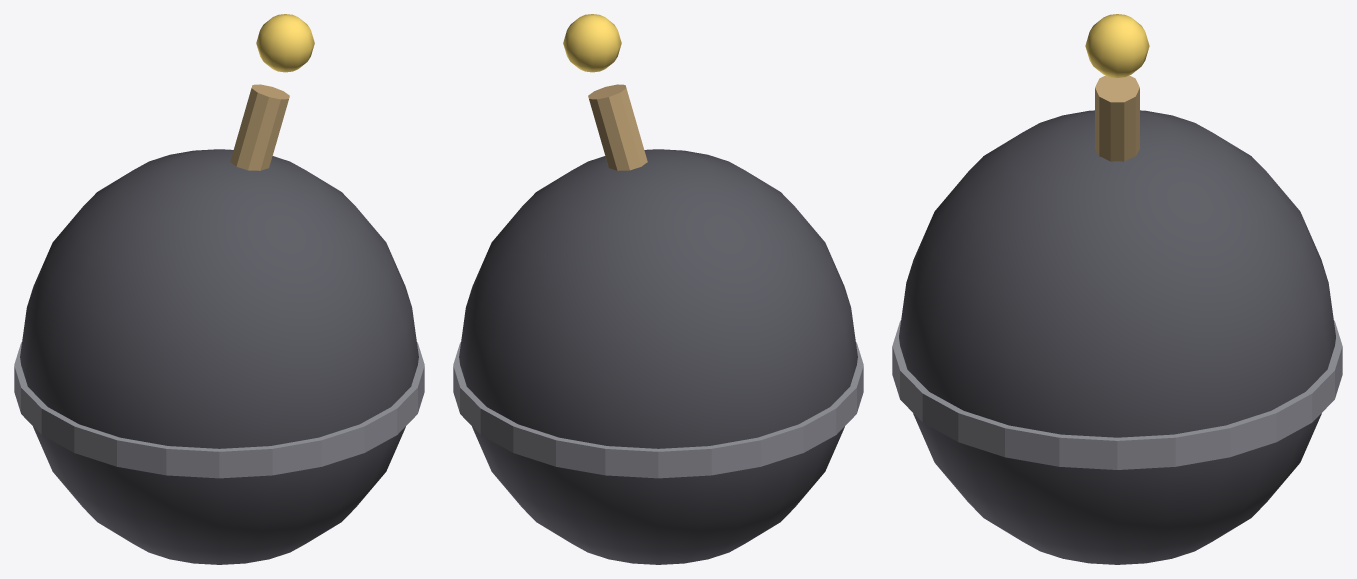
Rendered from Bomb.fbx.
3 views of the same model, side by side, from view 1: azimuth 30°, elevation 25°; view 2: azimuth 150°, elevation 25°; view 3: azimuth 270°, elevation 25° (orthographic). The views are drawn at different scales.
Visible parts, largest first — view 1: Bomb; view 2: Bomb; view 3: Bomb.
Boxes of the visible parts, x1,y1,x2,y2 form: Bomb: [14, 14, 424, 564]; Bomb: [453, 14, 863, 564]; Bomb: [892, 14, 1342, 564].
Bounding box in the file's own units: 0.7 × 0.97 × 0.7.
